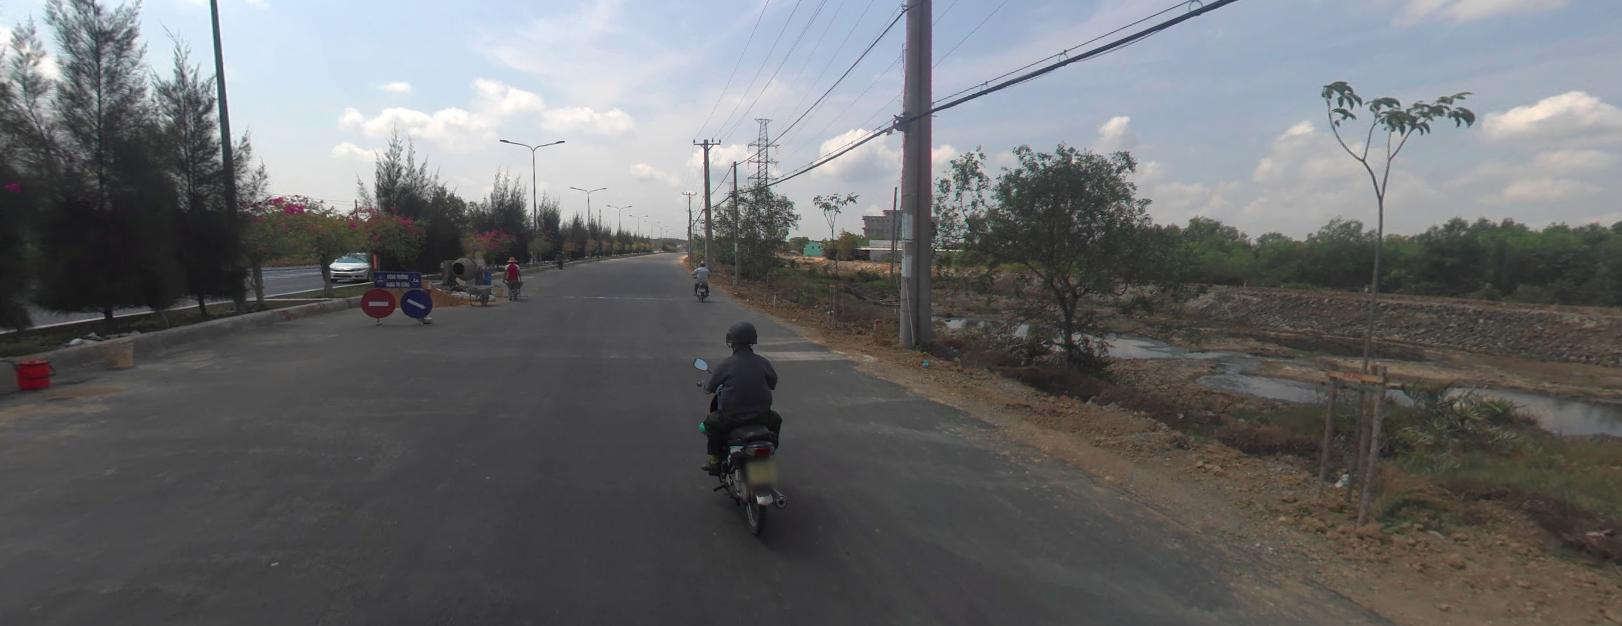Cam nguoc chieu: (360, 287, 395, 316)
Hieu lenh: (400, 287, 432, 316)
